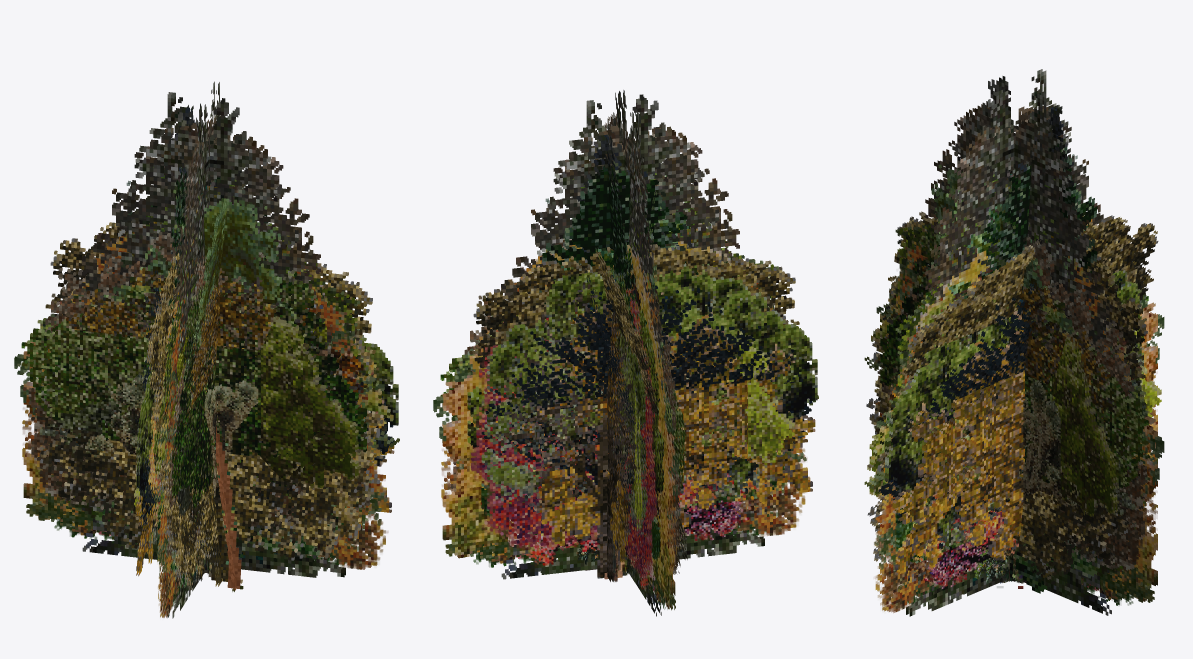
Rendered from ultimate_retro_tree_pack.glb.
3 views of the same model, side by side, from view 1: azimuth 30°, elevation 25°; view 2: azimuth 150°, elevation 25°; view 3: azimuth 270°, elevation 25° (orthographic). The views are drawn at different scales.
Visible parts, largest first — view 1: rt_autumn_013, rt_broad_083, rt_pine_056, rt_pine_064, rt_broad_085, rt_autumn_025, rt_autumn_019, rt_palm_032, rt_autumn_030, rt_desert_050, rt_broad_082, rt_broad_119 (+12 smaller); view 2: rt_broad_098, rt_autumn_015, rt_autumn_013, rt_bare_005, rt_pine_056, rt_autumn_028, rt_autumn_014, rt_pine_064, rt_pine_061, rt_broad_085, rt_autumn_019, rt_blossom_072 (+9 smaller); view 3: rt_autumn_013, rt_autumn_015, rt_pine_064, rt_pine_056, rt_broad_098, rt_broad_085, rt_broad_083, rt_autumn_030, rt_autumn_019, rt_pine_061, rt_autumn_014, rt_autumn_025 (+14 smaller).
Boxes of the visible parts, left/top/right/bottom form: rt_autumn_013: left=37, top=222, right=383, bottom=589; rt_broad_083: left=21, top=263, right=366, bottom=573; rt_pine_056: left=82, top=81, right=345, bottom=618; rt_pine_064: left=63, top=116, right=330, bottom=496; rt_broad_085: left=134, top=303, right=360, bottom=514; rt_autumn_025: left=43, top=257, right=362, bottom=460; rt_autumn_019: left=22, top=222, right=388, bottom=617; rt_palm_032: left=101, top=189, right=293, bottom=390; rt_autumn_030: left=23, top=232, right=372, bottom=576; rt_desert_050: left=85, top=370, right=258, bottom=569; rt_broad_082: left=14, top=253, right=399, bottom=578; rt_broad_119: left=34, top=289, right=356, bottom=573; rt_broad_098: left=481, top=263, right=817, bottom=581; rt_autumn_015: left=496, top=282, right=815, bottom=581; rt_autumn_013: left=469, top=244, right=805, bottom=573; rt_bare_005: left=481, top=267, right=811, bottom=488; rt_pine_056: left=501, top=90, right=764, bottom=616; rt_autumn_028: left=471, top=261, right=793, bottom=581; rt_autumn_014: left=442, top=234, right=750, bottom=608; rt_pine_064: left=482, top=114, right=739, bottom=581; rt_pine_061: left=539, top=165, right=720, bottom=351; rt_broad_085: left=630, top=304, right=794, bottom=530; rt_autumn_019: left=441, top=213, right=807, bottom=602; rt_blossom_072: left=524, top=500, right=749, bottom=589; rt_autumn_013: left=866, top=211, right=1158, bottom=584; rt_autumn_015: left=892, top=299, right=1134, bottom=575; rt_pine_064: left=916, top=103, right=1135, bottom=589; rt_pine_056: left=906, top=69, right=1111, bottom=616; rt_broad_098: left=885, top=270, right=1143, bottom=549; rt_broad_085: left=867, top=294, right=1161, bottom=516; rt_broad_083: left=880, top=223, right=1148, bottom=569; rt_autumn_030: left=877, top=235, right=1151, bottom=570; rt_autumn_019: left=875, top=215, right=1157, bottom=612; rt_pine_061: left=961, top=143, right=1100, bottom=593; rt_autumn_014: left=871, top=219, right=1157, bottom=601; rt_autumn_025: left=882, top=257, right=1140, bottom=486.
Bounding box in the file's own units: 9.51 × 15 × 8.67.
69 materials, 69 textured.
